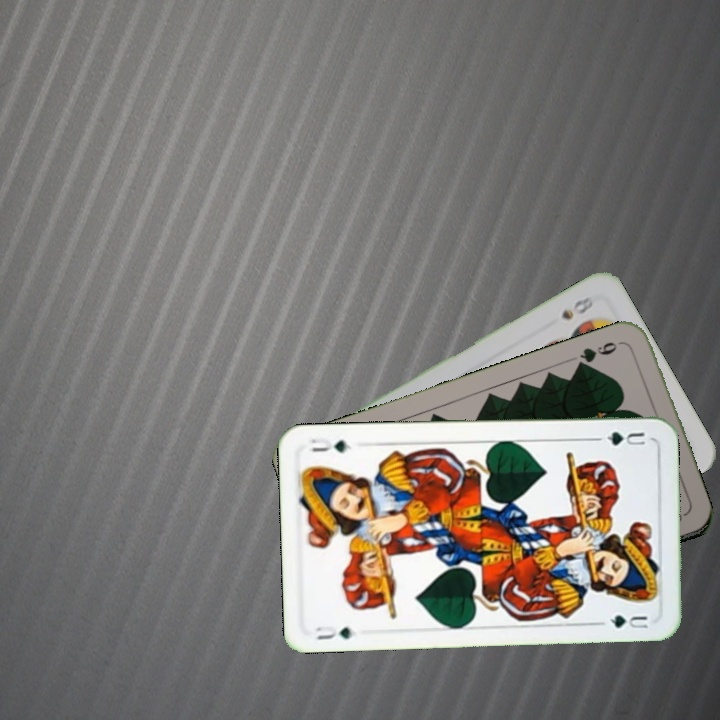G9: (573, 337, 628, 371)
GU: (311, 621, 359, 643), (603, 427, 648, 449)
S8: (557, 292, 596, 323)
